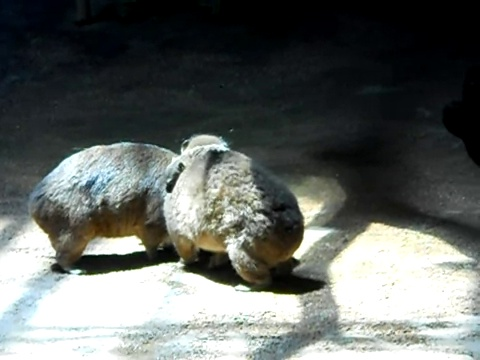Rock Hyrex: (163, 133, 305, 297), (28, 139, 181, 278)
